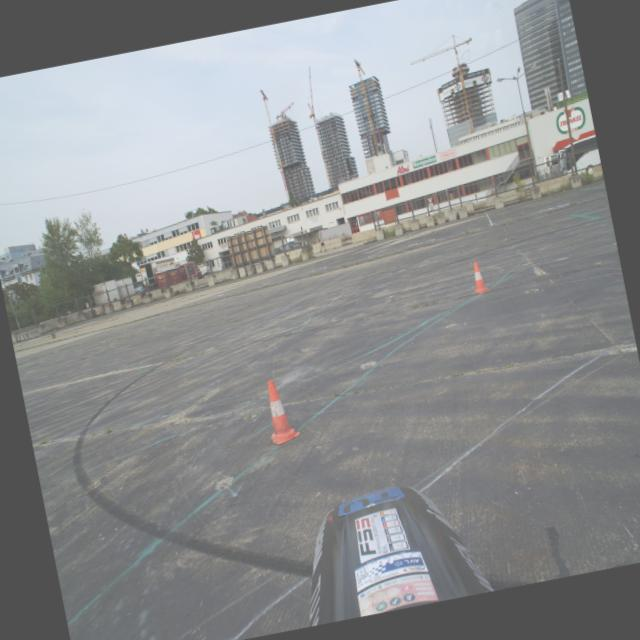orange_cone: (260, 375, 302, 447), (467, 259, 492, 296)
